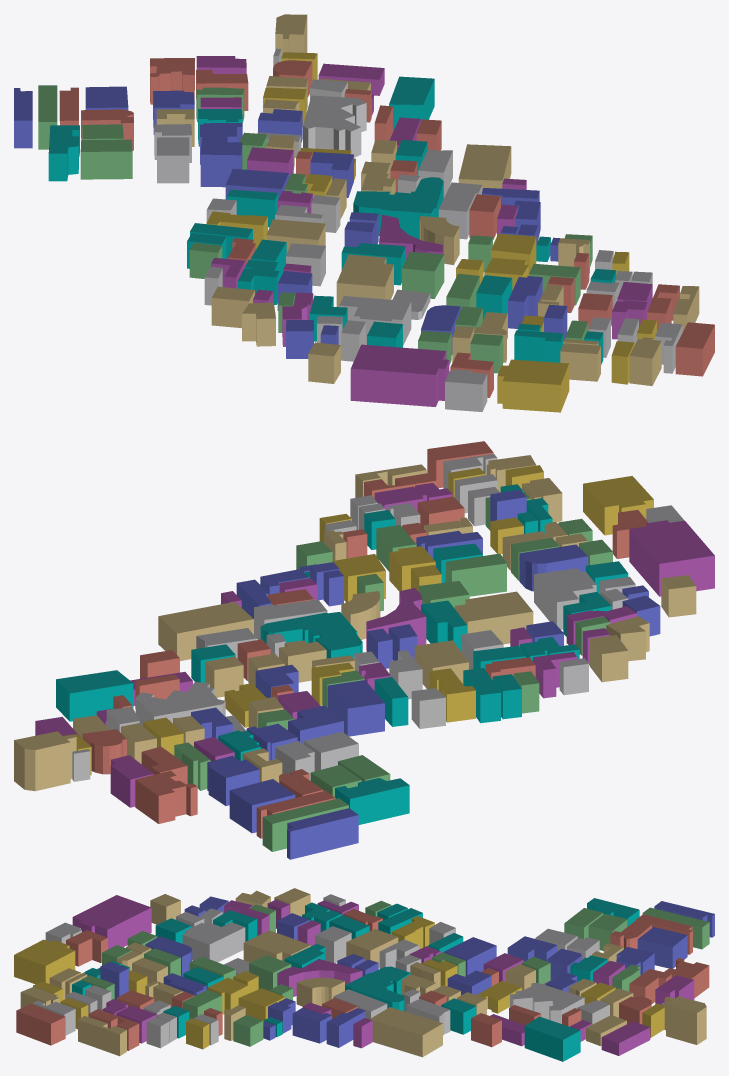
File: shibuya-6.glb
The picture shows the model from 3 angles, top to bottom: view 1: azimuth 30°, elevation 25°; view 2: azimuth 150°, elevation 25°; view 3: azimuth 270°, elevation 25°; orthographic projection. The views are drawn at different scales.
Parts seen in each view (by area): view 1: shibuya-6; view 2: shibuya-6; view 3: shibuya-6.
Part boxes in pixels (x1,y1,x2,y2): shibuya-6: [14, 14, 714, 412]; shibuya-6: [14, 441, 714, 859]; shibuya-6: [14, 888, 714, 1061].
Bounding box in the file's own units: 178 × 17.5 × 348.
